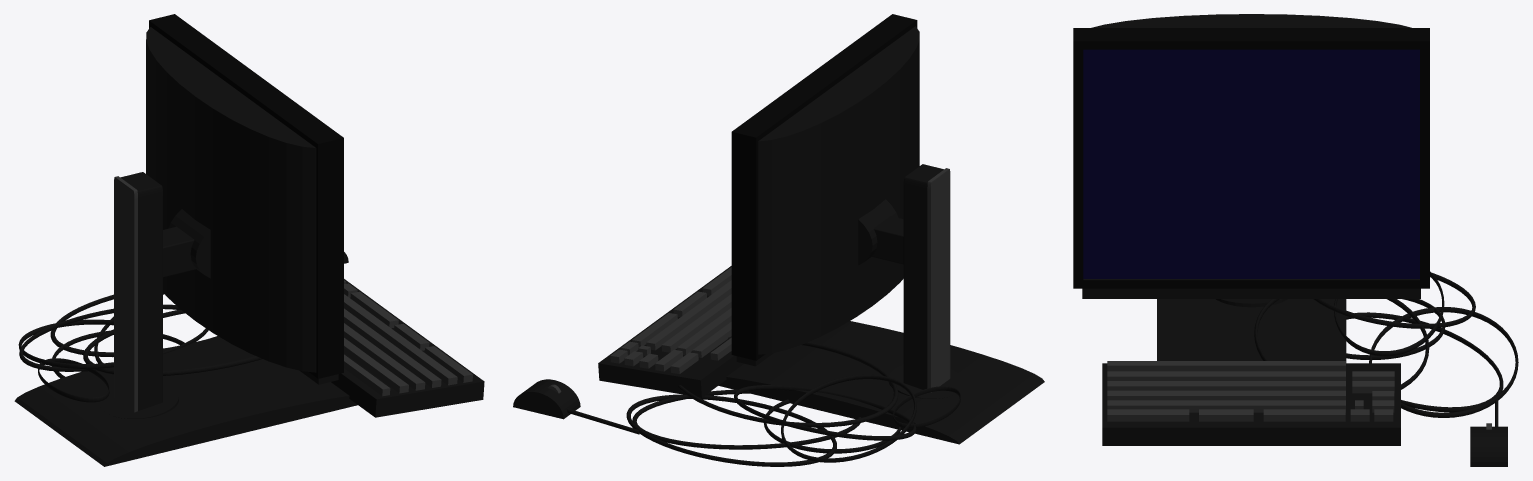
Rendered from desktopComputer.fbx.
3 views of the same model, side by side, from view 1: azimuth 30°, elevation 25°; view 2: azimuth 150°, elevation 25°; view 3: azimuth 270°, elevation 25° (orthographic). The views are drawn at different scales.
Parts seen in each view (by area): view 1: Cylinder, Cylinder.002, Cube, Cube.003, Cube.004, Cube.006, Cube.011, Cube.010, Cube.005, Cylinder.001, Cylinder.003, Cube.009 (+9 smaller); view 2: Cylinder, Cylinder.002, Cube, Cube.003, Cube.004, Cube.006, Torus.005, Cylinder.004, Torus.002, Torus, Torus.006, Torus.001 (+10 smaller); view 3: Cube.001, Cube, Cylinder.002, Cube.006, Cube.002, Cylinder, Cube.007, Cube.010, Cube.011, Cube.008, Cube.009, Torus.005 (+10 smaller).
Part boxes in pixels (box(x1,y1,x2,y2)): Cylinder: box(146, 27, 316, 372); Cylinder.002: box(14, 337, 357, 466); Cube: box(149, 14, 343, 378); Cube.003: box(120, 172, 162, 410); Cube.004: box(114, 176, 137, 412); Cube.006: box(331, 279, 484, 417); Cube.011: box(344, 294, 457, 385); Cube.010: box(344, 308, 441, 387); Cube.005: box(163, 226, 196, 277); Cylinder.001: box(168, 209, 210, 278); Cylinder.003: box(99, 383, 178, 418); Cube.009: box(344, 323, 425, 390); Cylinder: box(758, 26, 919, 354); Cylinder.002: box(718, 321, 1044, 444); Cube: box(731, 14, 917, 360); Cube.003: box(903, 164, 943, 389); Cube.004: box(927, 168, 950, 392); Cube.006: box(598, 266, 743, 397); Torus.005: box(626, 394, 836, 466); Cylinder.004: box(513, 379, 580, 419); Torus.002: box(734, 385, 916, 440); Torus: box(678, 337, 898, 427); Torus.006: box(632, 389, 860, 449); Torus.001: box(781, 374, 916, 462); Cube.001: box(1083, 49, 1419, 278); Cube: box(1073, 28, 1429, 288); Cylinder.002: box(1157, 299, 1346, 362); Cube.006: box(1102, 363, 1400, 445); Cube.002: box(1082, 279, 1420, 298); Cylinder: box(1091, 14, 1411, 27); Cube.007: box(1107, 361, 1345, 371); Cube.010: box(1107, 390, 1345, 400); Cube.011: box(1107, 400, 1345, 412); Cube.008: box(1107, 371, 1345, 380); Cube.009: box(1107, 381, 1345, 390); Torus.005: box(1369, 307, 1518, 417).
Size of the model in its own units: 350 by 267 by 326.
